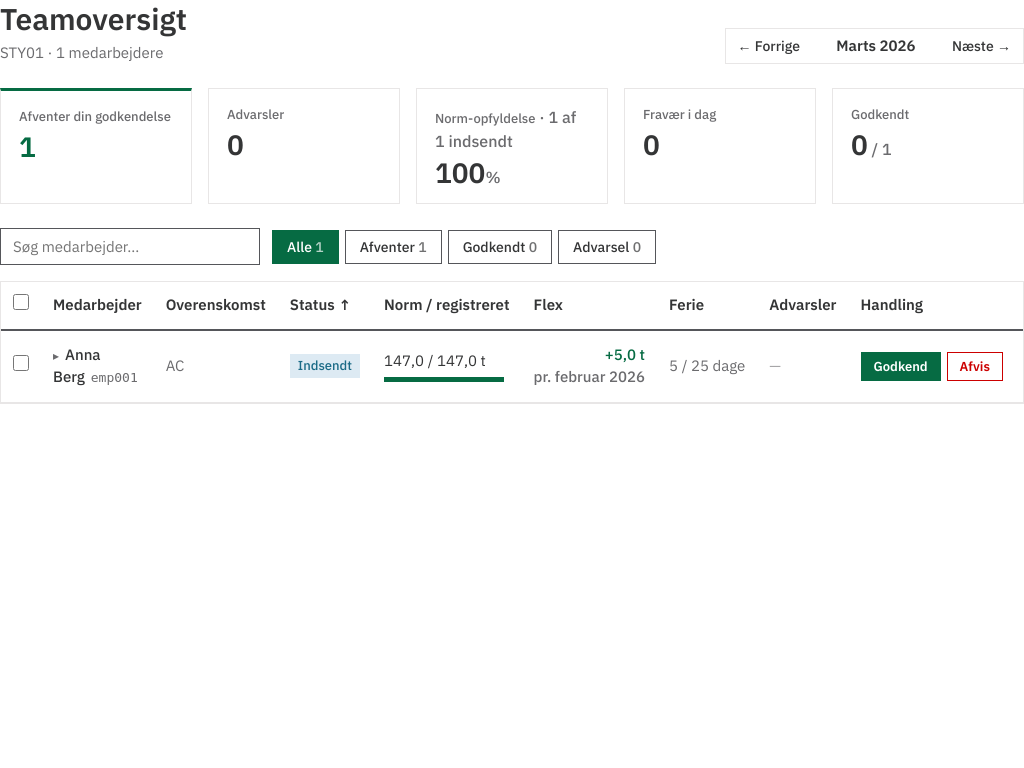
it: TeamOversigt — reject dialog (kit Radix Dialog) › Escape closes the reject dialog WITHOUT firing a reject POST
This screenshot has width=1024, height=768.
Expected: the text "Anna Berg" is shown, [53,344,101,386]
Click the button "Afvis": (975, 366) [947,352,1003,380]
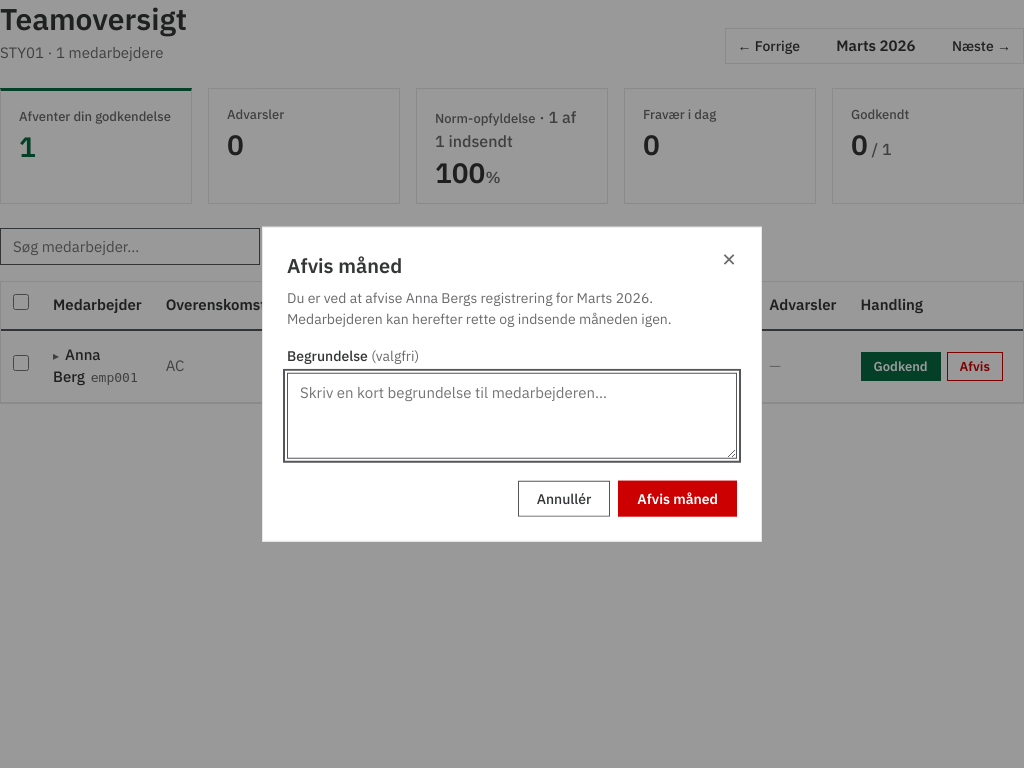
Expected: the dialog is shown, [262,227,762,541]
Press Escape
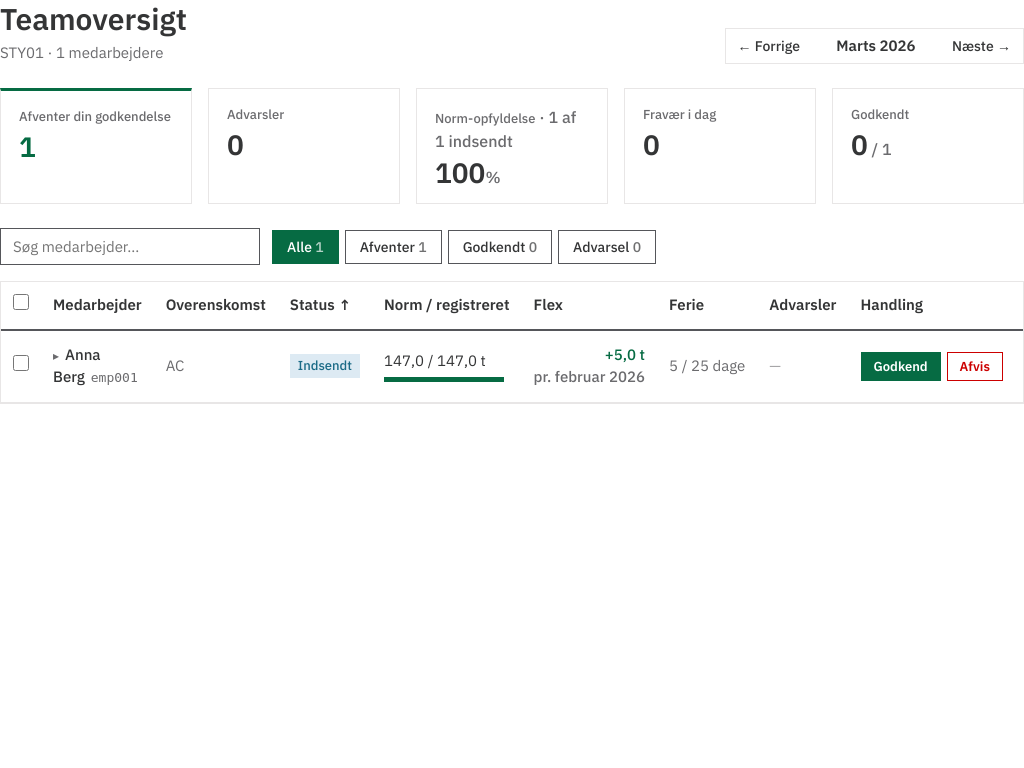
Expected: the dialog is gone
